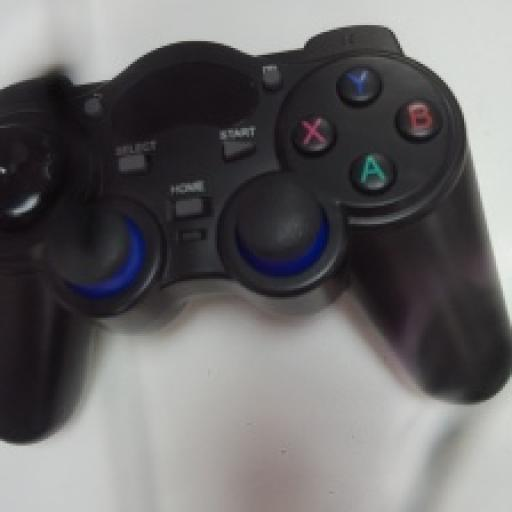game pad: (0, 30, 510, 439)
